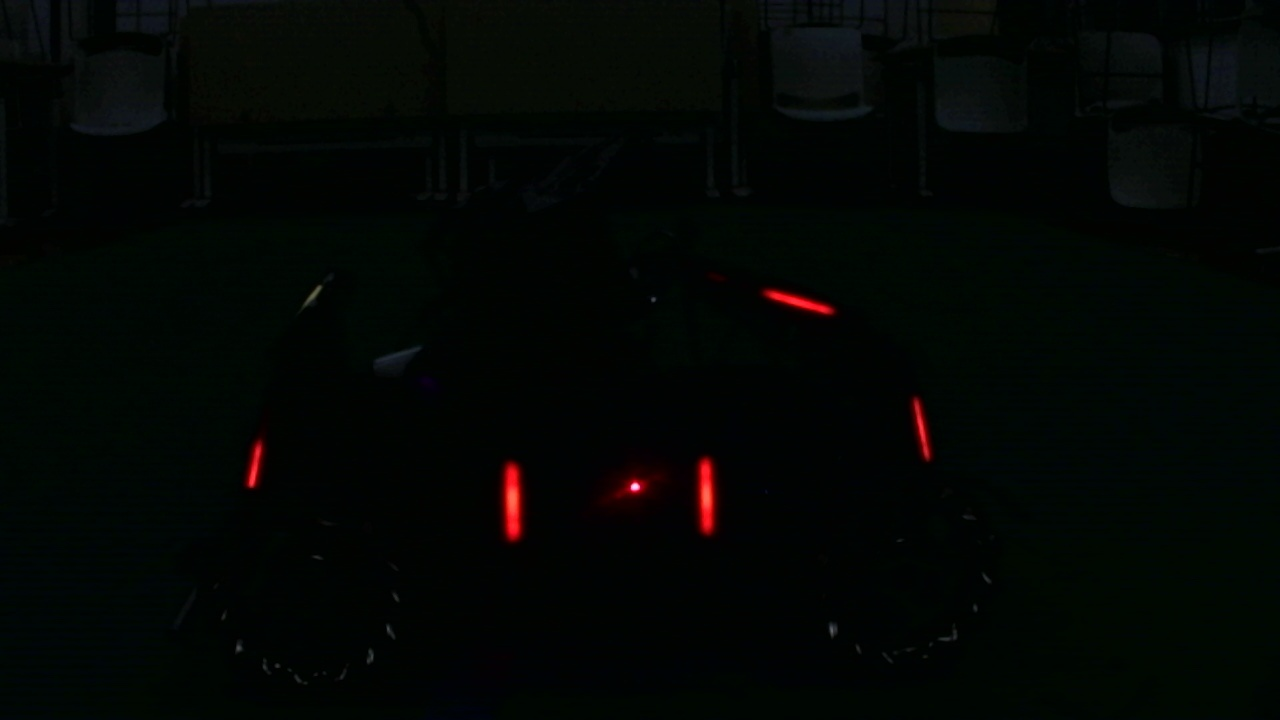lamp: (694, 454, 715, 541), (503, 457, 524, 540), (910, 386, 933, 461), (244, 431, 266, 490)
notpair1: (697, 386, 933, 552), (246, 433, 521, 544)
pair1: (501, 458, 715, 542)
